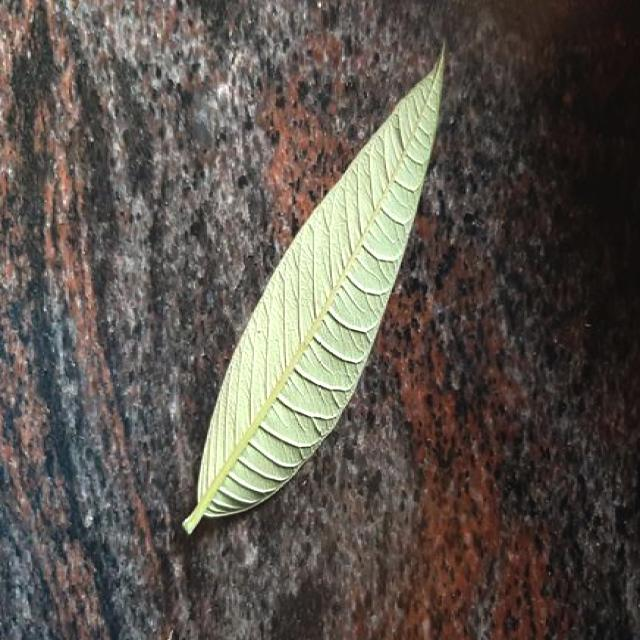leaf: (181, 38, 447, 535)
